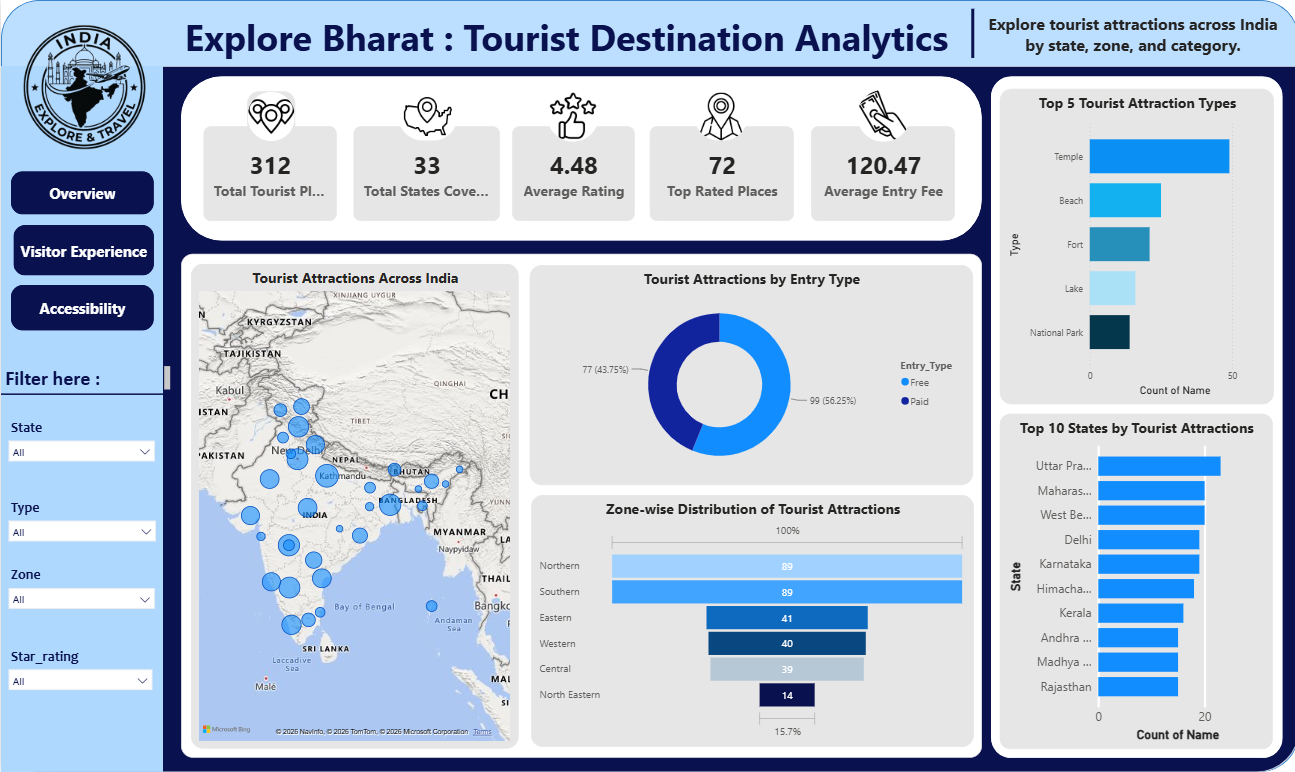

This screenshot's page, from the dashboard's own definition file:
{"tool":"powerbi","page":{"name":"Tourism Overview ","canvas":[1730,1030],"ordinal":1},"visuals":[{"type":"shape","box":[0,0,1730.3,1029.2],"z":0},{"type":"shape","box":[9.6,88,1720.7,941.2],"z":1000},{"type":"shape","box":[240.1,100.8,1067.6,219.3],"z":2000,"group":"g2"},{"type":"shape","box":[1320.5,100.8,389,909.2],"z":2000},{"type":"shape","box":[0,88,216.1,941.2],"z":3000,"group":"g1"},{"type":"clusteredBarChart","title":"Top 10 States by Tourist Attractions","fields":{"Category":["Cleaned Dataset.State"],"Y":["CountNonNull(Cleaned Dataset.Name)"]},"box":[1332.4,551.5,363.9,447.3],"z":3000},{"type":"actionButton","box":[12.8,228.8,190.5,57.6],"z":4000,"group":"g1"},{"type":"shape","box":[240.1,337.7,1067.6,672.3],"z":4000},{"type":"barChart","title":"Top 5 Tourist Attraction Types","fields":{"Category":["Cleaned Dataset.Type"],"Y":["CountNonNull(Cleaned Dataset.Name)"]},"box":[1332.4,117.5,365.8,420.7],"z":5000},{"type":"actionButton","box":[16,299.2,187.3,67.2],"z":5000,"group":"g1"},{"type":"donutChart","title":"Tourist Attractions by Entry Type","fields":{"Category":["Cleaned Dataset.Entry_Type"],"Y":["CountNonNull(Cleaned Dataset.Name)"]},"box":[705,352.5,591.3,293.8],"z":6000},{"type":"actionButton","box":[12.8,379.3,190.5,60.8],"z":6000,"group":"g1"},{"type":"map","title":"Tourist Attractions Across India","fields":{"Category":["Cleaned Dataset.State"],"Size":["CountNonNull(Cleaned Dataset.Name)"]},"box":[252.9,352.1,437,646.7],"z":7000},{"type":"shape","box":[0.5,457.8,216.1,134.5],"z":7000,"group":"g1"},{"type":"textbox","box":[0,483.3,230.5,41.6],"z":8000,"group":"g1"},{"type":"funnel","title":"Zone-wise Distribution of Tourist Attractions","fields":{"Category":["Cleaned Dataset.Zone"],"Y":["CountNonNull(Cleaned Dataset.Name)"]},"box":[705.9,659.5,590.6,336.1],"z":8000},{"type":"group","id":"g1","title":"Group 1","box":[0,88,230.5,941.2],"z":9000},{"type":"slicer","fields":{"Values":["Cleaned Dataset.State"]},"box":[0.1,552.2,214.5,80],"z":9000,"group":"g1"},{"type":"group","id":"g2","title":"Group 2","box":[240.1,100.8,1067.6,219.3],"z":10000},{"type":"slicer","fields":{"Values":["Cleaned Dataset.Type"]},"box":[0.1,659.4,216.1,73.6],"z":10000,"group":"g1"},{"type":"group","id":"g3","title":"Group 3","box":[240.1,11.2,1469.4,76.8],"z":11000},{"type":"slicer","fields":{"Values":["Cleaned Dataset.Zone"]},"box":[0,749.1,214.5,78.4],"z":11000,"group":"g1"},{"type":"textbox","box":[240.1,11.2,1120.5,76.8],"z":12000,"group":"g3"},{"type":"slicer","fields":{"Values":["Cleaned Dataset.Star_rating"]},"box":[0,858,211.3,97.6],"z":12000},{"type":"textbox","box":[1307.7,11.2,401.8,76.8],"z":13000,"group":"g3"},{"type":"image","box":[0,27.2,220.9,180.9],"z":13000},{"type":"shape","box":[1272.5,11.2,48,65.6],"z":14000,"group":"g3"},{"type":"cardVisual","fields":{"Data":["Cleaned Dataset.Total Tourist Places"]},"box":[270.5,168,177.7,126.5],"z":15000,"group":"g2"},{"type":"cardVisual","fields":{"Data":["Cleaned Dataset.Total States Covered"]},"box":[470.6,168,195.3,126.5],"z":16000,"group":"g2"},{"type":"cardVisual","fields":{"Data":["Cleaned Dataset.Average Rating"]},"box":[681.9,168,163.3,126.5],"z":17000,"group":"g2"},{"type":"cardVisual","fields":{"Data":["Cleaned Dataset.Top Rated Places"]},"box":[864.4,168,192.1,126.5],"z":18000,"group":"g2"},{"type":"cardVisual","fields":{"Data":["Cleaned Dataset.Average Entry Fee"]},"box":[1080.4,168,192.1,126.5],"z":19000,"group":"g2"},{"type":"image","box":[328.1,120,64,67.2],"z":20000,"group":"g2"},{"type":"image","box":[529.8,123.2,78.4,64],"z":21000,"group":"g2"},{"type":"image","box":[728.3,118.4,68.8,68.8],"z":22000,"group":"g2"},{"type":"image","box":[925.2,123.2,70.4,64],"z":23000,"group":"g2"},{"type":"image","box":[1141.3,118.4,70.4,68.8],"z":24000,"group":"g2"}]}

Visuals, with their boxes in screenshot pixels (x1, y1, x2, y2), scaled from the page's 1730x1030 canvas onto the 1295x772 screenshot:
shape: detection(0, 0, 1294, 771)
shape: detection(7, 66, 1294, 771)
shape: detection(180, 76, 979, 240)
shape: detection(988, 76, 1280, 757)
shape: detection(0, 66, 162, 771)
"Top 10 States by Tourist Attractions" clusteredBarChart: detection(997, 413, 1270, 749)
actionButton: detection(10, 171, 152, 215)
shape: detection(180, 253, 979, 757)
"Top 5 Tourist Attraction Types" barChart: detection(997, 88, 1271, 403)
actionButton: detection(12, 224, 152, 275)
"Tourist Attractions by Entry Type" donutChart: detection(528, 264, 970, 484)
actionButton: detection(10, 284, 152, 330)
"Tourist Attractions Across India" map: detection(189, 264, 516, 749)
shape: detection(0, 343, 162, 444)
textbox: detection(0, 362, 173, 393)
"Zone-wise Distribution of Tourist Attractions" funnel: detection(528, 494, 971, 746)
"Group 1" group: detection(0, 66, 173, 771)
slicer - Cleaned Dataset.State: detection(0, 414, 161, 474)
"Group 2" group: detection(180, 76, 979, 240)
slicer - Cleaned Dataset.Type: detection(0, 494, 162, 549)
"Group 3" group: detection(180, 8, 1280, 66)
slicer - Cleaned Dataset.Zone: detection(0, 561, 161, 620)
textbox: detection(180, 8, 1018, 66)
slicer - Cleaned Dataset.Star_rating: detection(0, 643, 158, 716)
textbox: detection(979, 8, 1280, 66)
image: detection(0, 20, 165, 156)
shape: detection(953, 8, 988, 58)
cardVisual - Cleaned Dataset.Total Tourist Places: detection(202, 126, 336, 221)
cardVisual - Cleaned Dataset.Total States Covered: detection(352, 126, 498, 221)
cardVisual - Cleaned Dataset.Average Rating: detection(510, 126, 633, 221)
cardVisual - Cleaned Dataset.Top Rated Places: detection(647, 126, 791, 221)
cardVisual - Cleaned Dataset.Average Entry Fee: detection(809, 126, 953, 221)
image: detection(246, 90, 294, 140)
image: detection(397, 92, 455, 140)
image: detection(545, 89, 597, 140)
image: detection(693, 92, 745, 140)
image: detection(854, 89, 907, 140)
